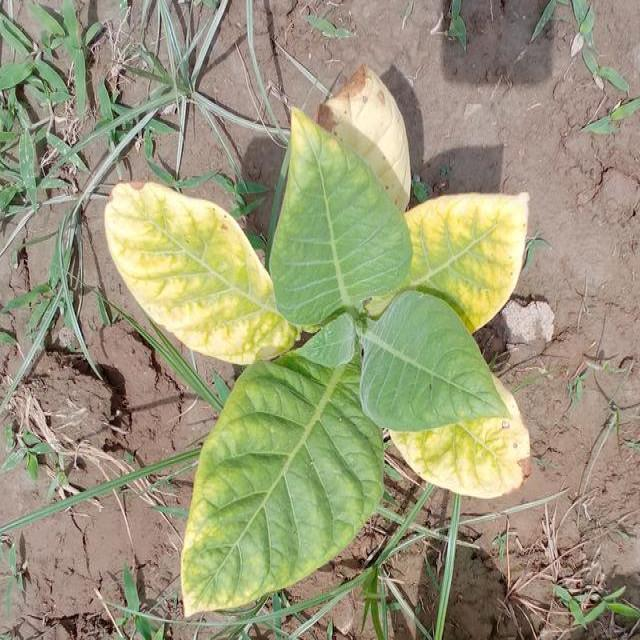crop: (105, 68, 528, 613)
